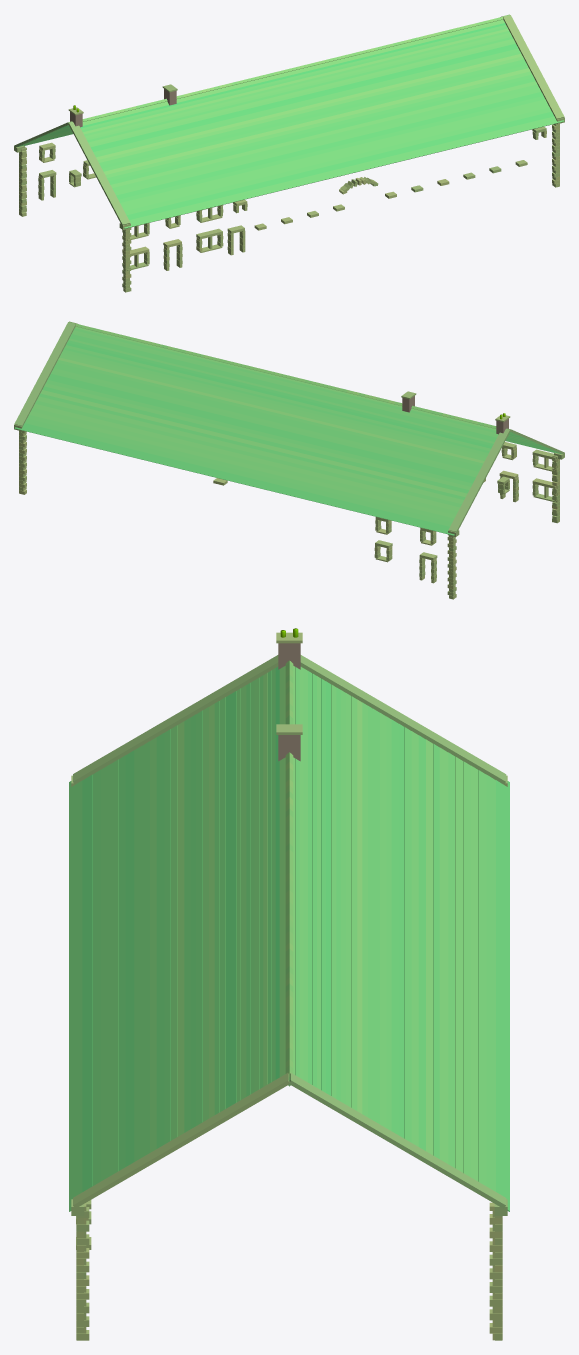
Rendered from SM_Bld_178_Stone.glb.
3 views of the same model, one above another, from view 1: azimuth 30°, elevation 25°; view 2: azimuth 150°, elevation 25°; view 3: azimuth 270°, elevation 25° (orthographic). The views are drawn at different scales.
Visible parts, largest first — view 1: SM_Bld_178_Stone; view 2: SM_Bld_178_Stone; view 3: SM_Bld_178_Stone.
Part boxes in pixels (x1,y1,x2,y2): SM_Bld_178_Stone: [14, 14, 564, 292]; SM_Bld_178_Stone: [14, 321, 564, 599]; SM_Bld_178_Stone: [69, 628, 509, 1340].
Size of the model in its own units: 40.68 by 12.8 by 17.58.
